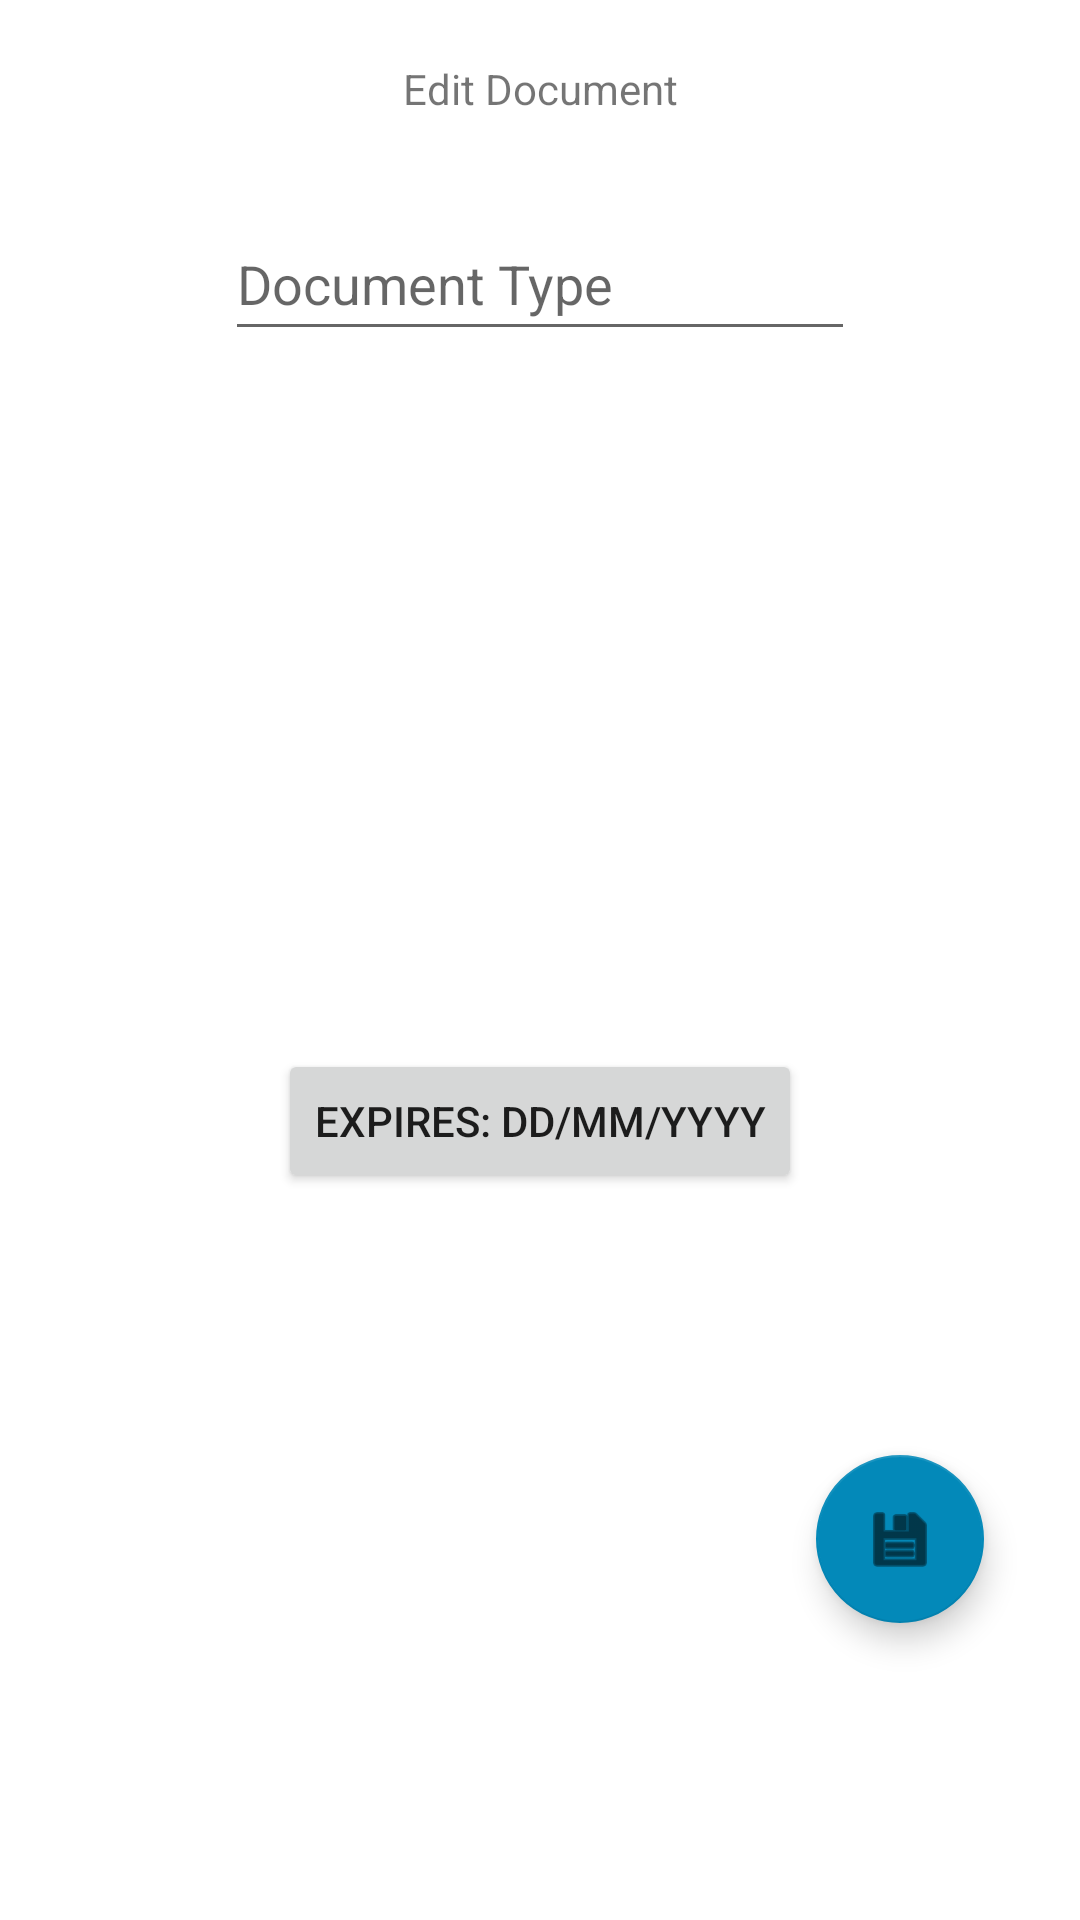

Icon bounding boxes for this 1080px x 1920px phone screenshot, format [left=x1, top=y1, right=x2, bottom=y2]:
Save Edited Document: [left=816, top=1455, right=984, bottom=1623]
